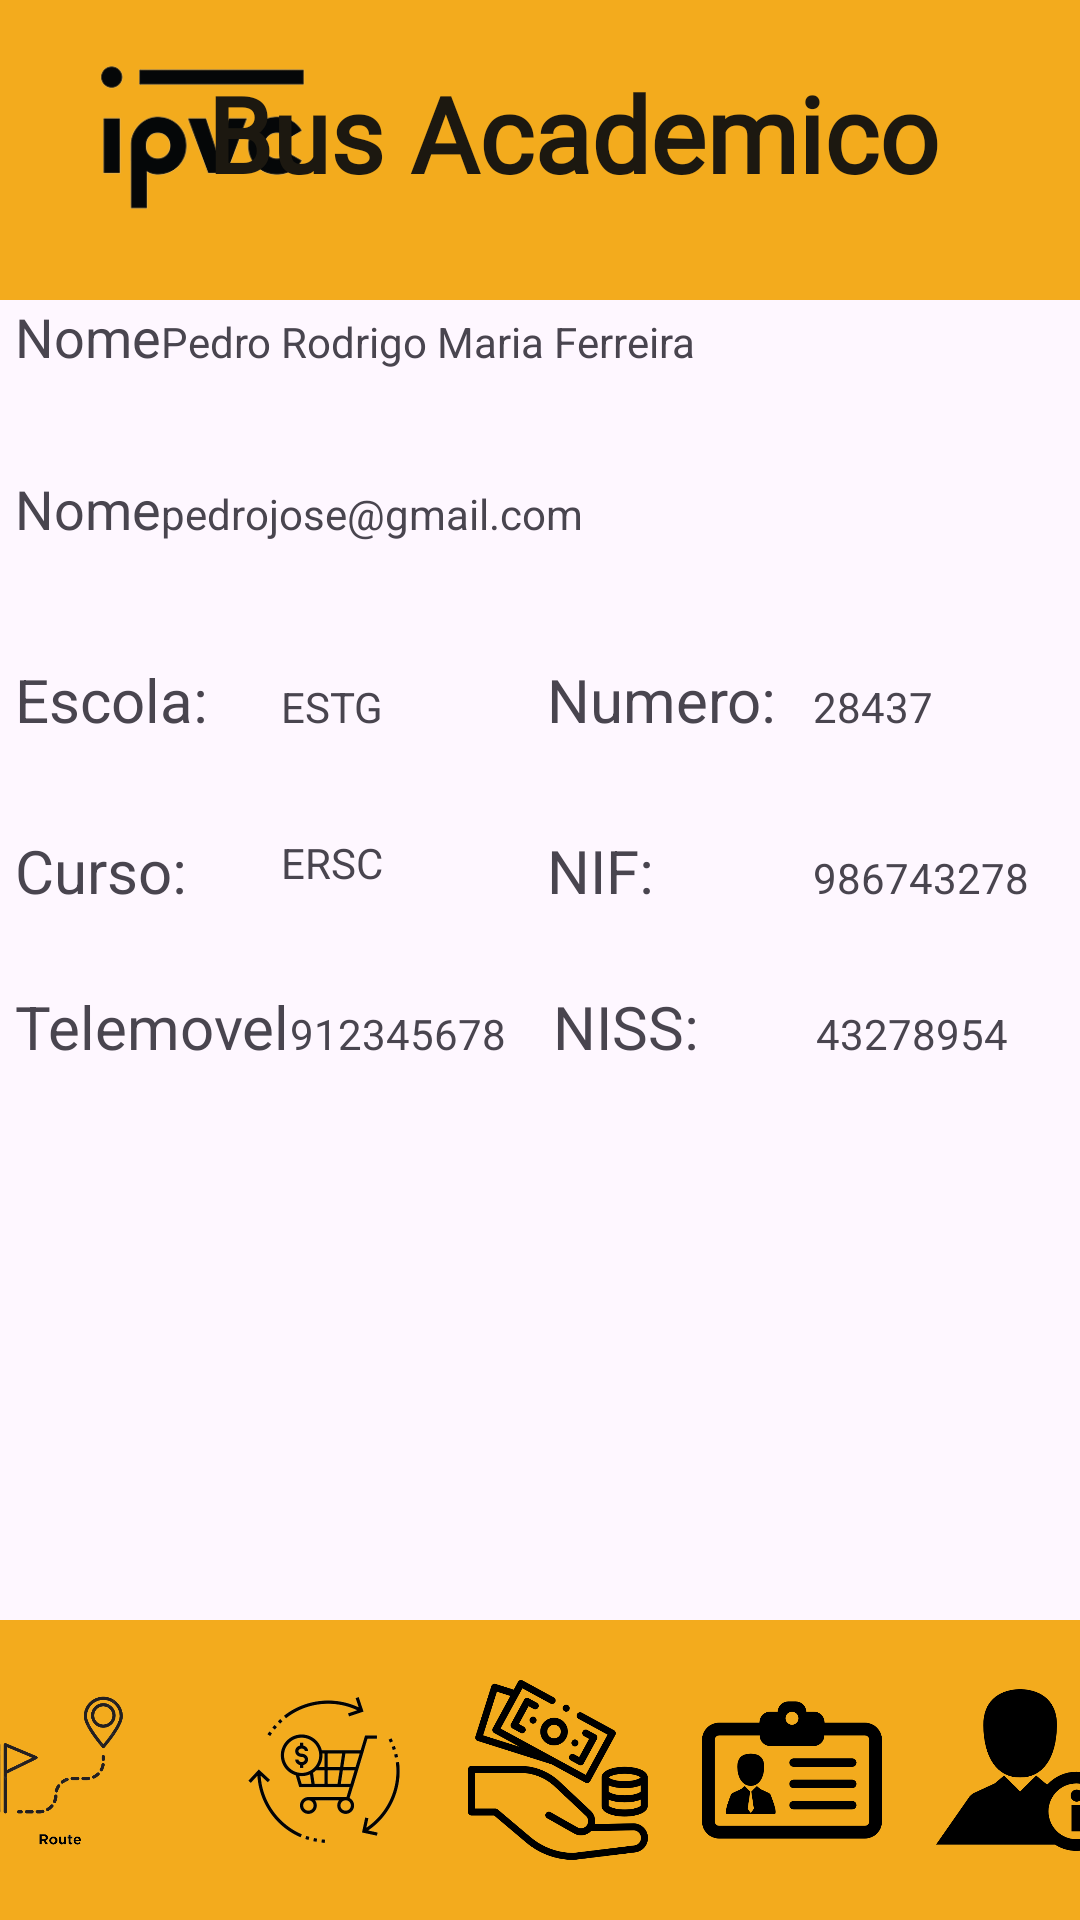

Where to tap for icons on this 1080x1920 app screen, as (x,y):
Card Button: (792,1770)
History Button: (324,1770)
Payment Button: (558,1770)
